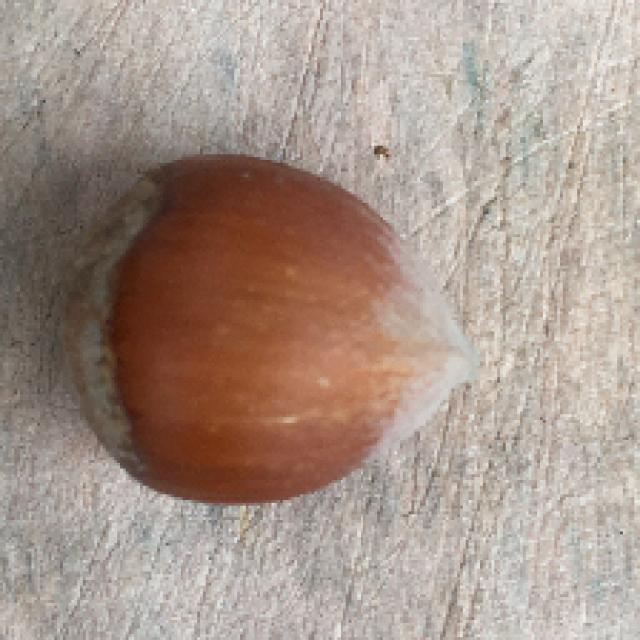qualityHazelnut: (60, 147, 486, 506)
